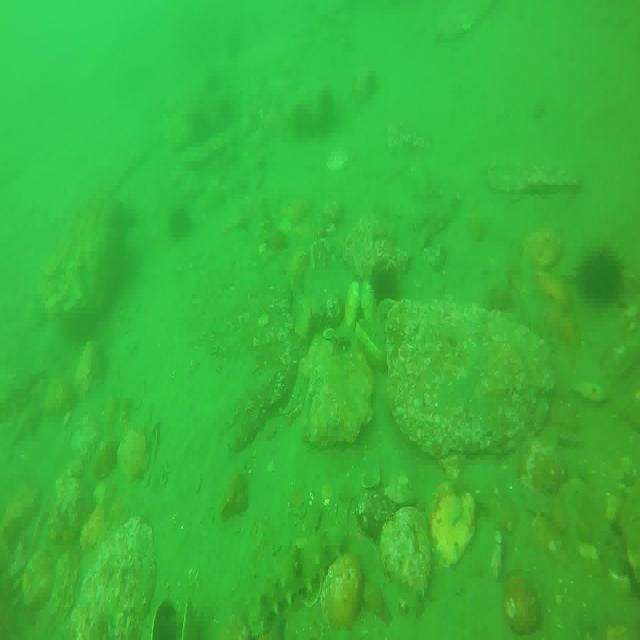echinus: (578, 246, 626, 313), (370, 264, 401, 312), (167, 202, 191, 242)
holothurian: (257, 526, 348, 622)
scallop: (112, 430, 150, 484), (150, 598, 198, 640)
